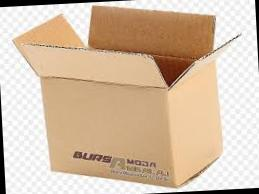Kertas: (13, 5, 235, 186)
